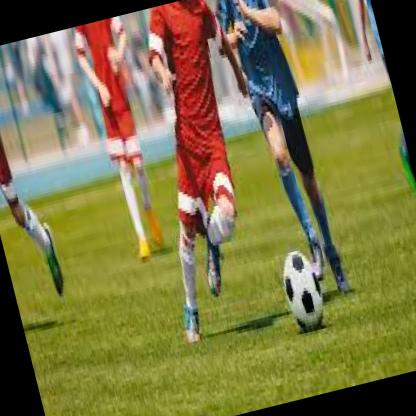ball: (276, 246, 330, 335)
